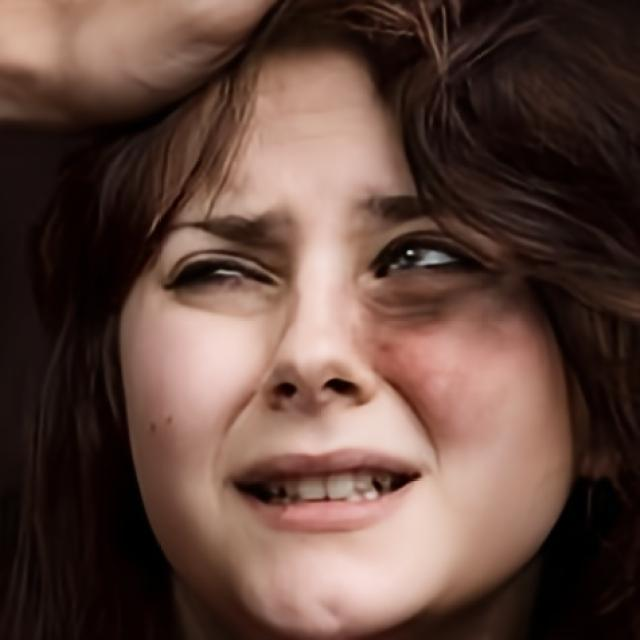fear: (118, 54, 570, 626)
